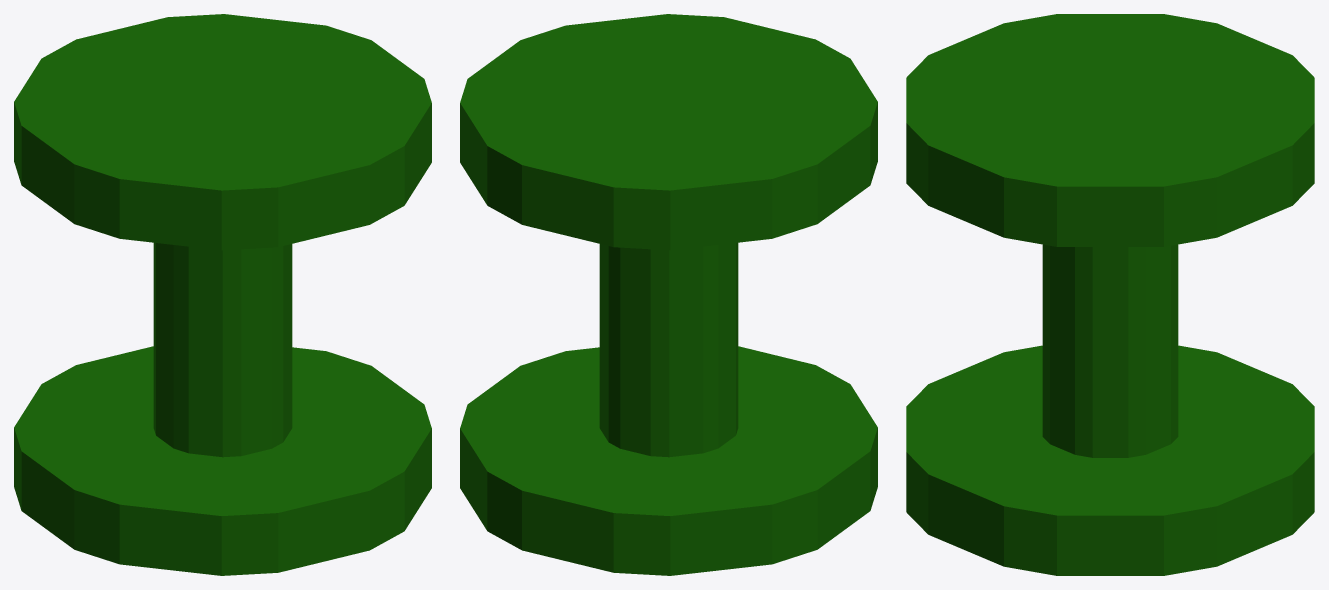
File: 2_Weight.fbx
3 renders of one model, left to right at view 1: azimuth 30°, elevation 25°; view 2: azimuth 150°, elevation 25°; view 3: azimuth 270°, elevation 25°, orthographic.
Parts seen in each view (by area): view 1: Weight; view 2: Weight; view 3: Weight.
Part boxes in pixels (bbox=[...]): Weight: bbox=[14, 14, 431, 575]; Weight: bbox=[460, 14, 877, 575]; Weight: bbox=[906, 14, 1314, 575].
Size of the model in its own units: 95.05 by 100 by 95.05.
